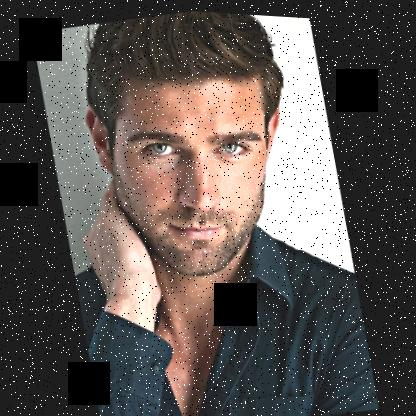Male: (78, 48, 308, 293)
